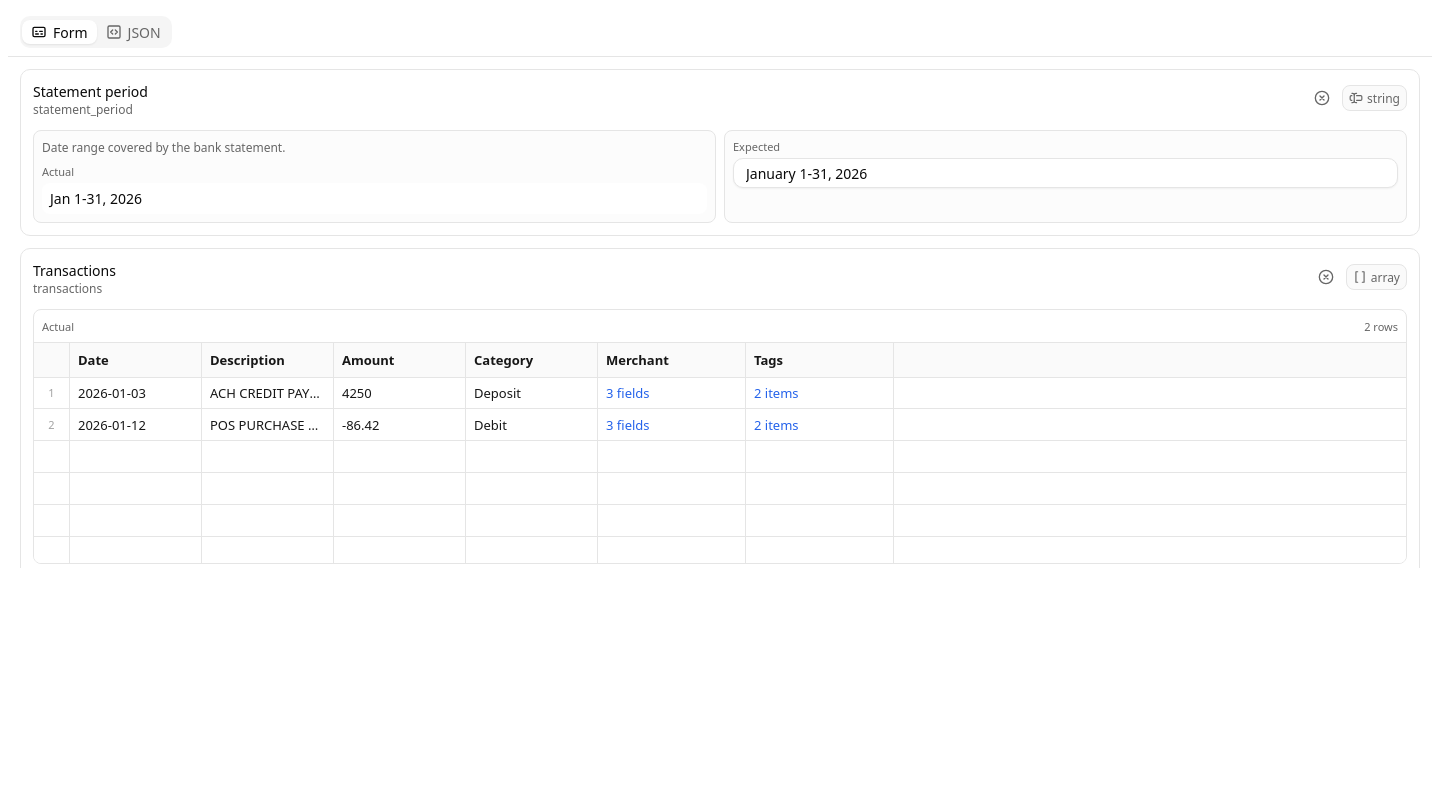
Test case: HumanReviewPanel › marks an edited field modified and undo restores the expected value
This screenshot has width=1440, height=810.
Replace the text in the field named "Expected statement_period" with "Jan 2026" at (1066, 173), box [733,158,1398,188]
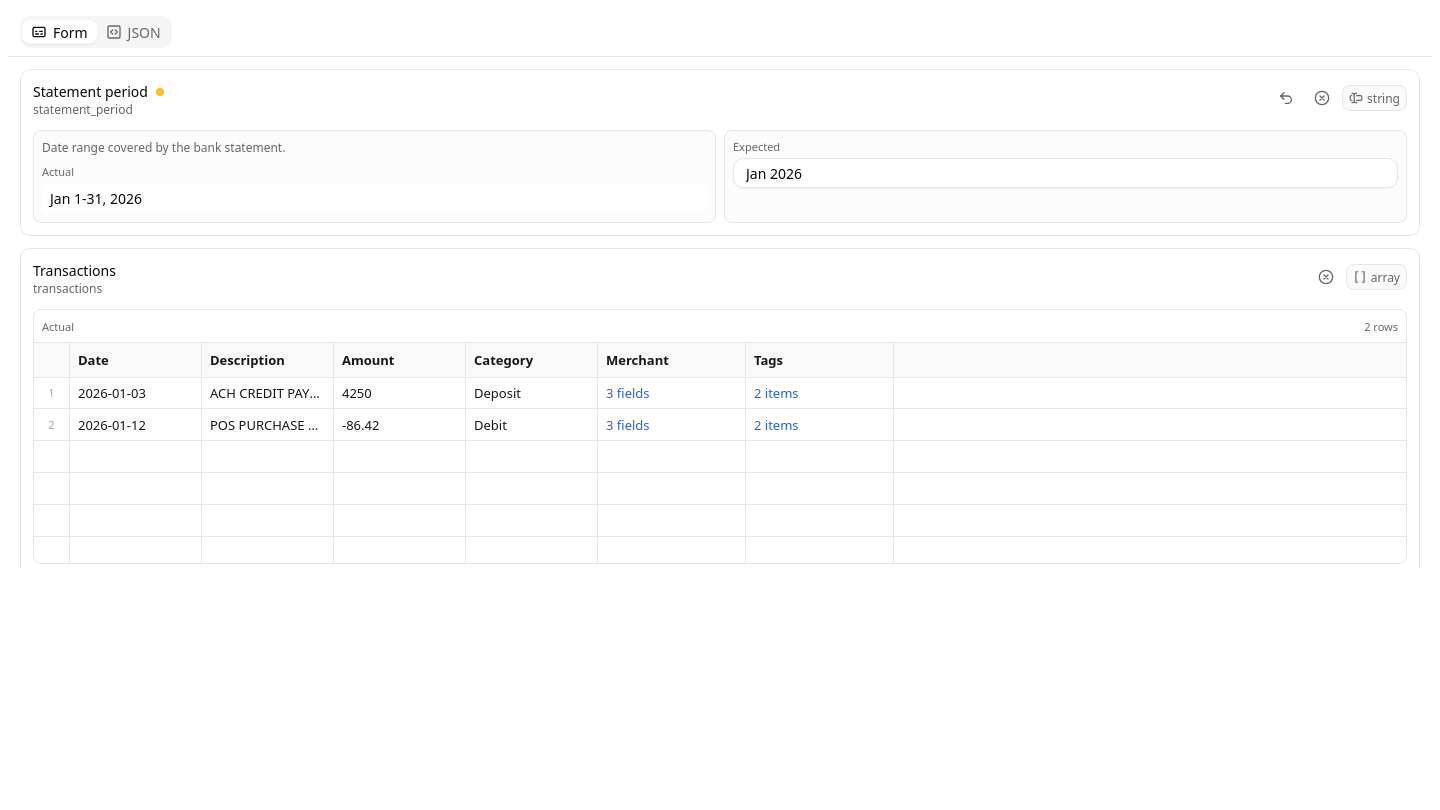
Click the button named "Undo statement_period" at (1286, 98), box [1270,82,1302,114]
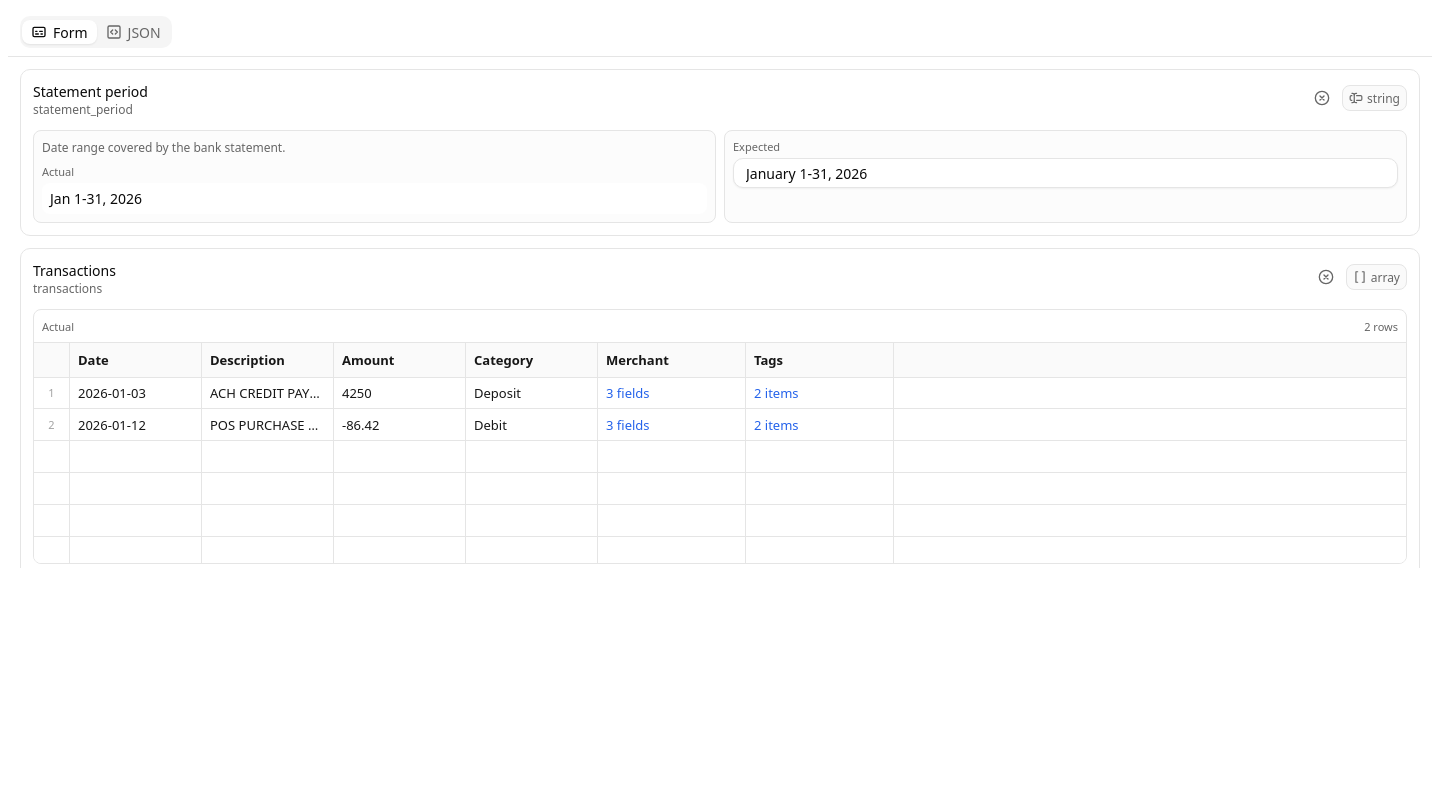
Check: the field named "Expected statement_period" holds "January 1-31, 2026", box [733,158,1398,188]
